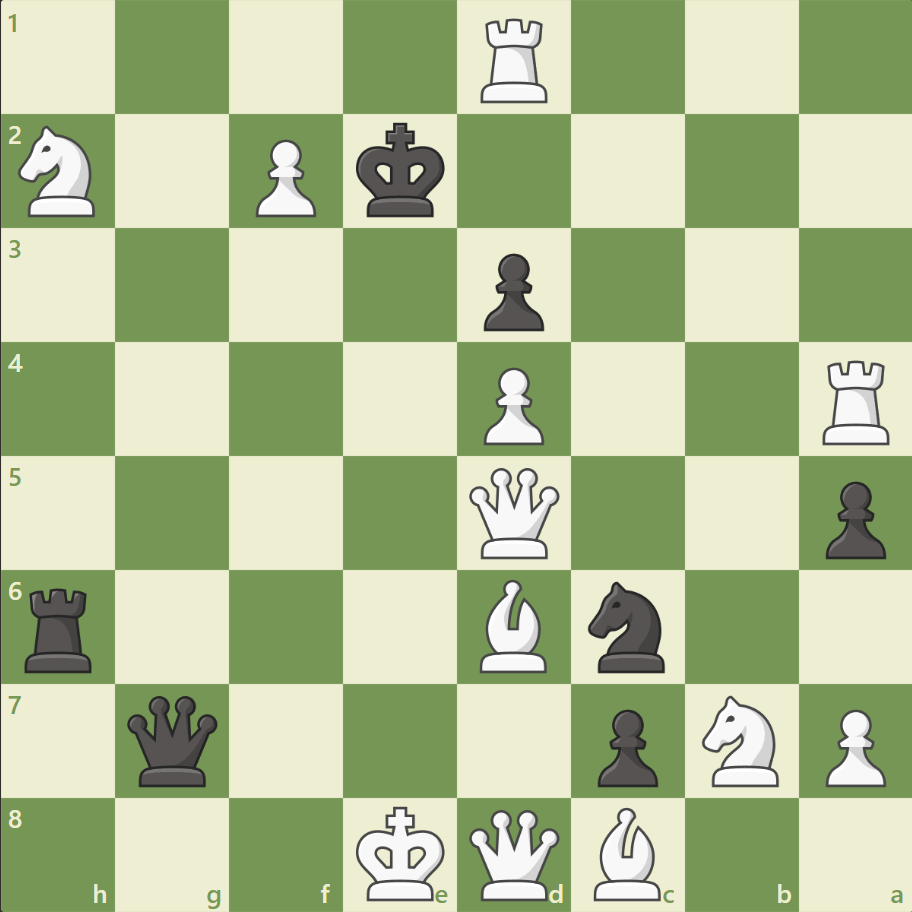B: (585, 801, 669, 904), (471, 574, 555, 676)
K: (351, 798, 451, 906)
N: (692, 688, 789, 791), (11, 121, 108, 223)
P: (474, 359, 549, 450), (247, 132, 322, 223), (815, 700, 889, 791)
Q: (464, 804, 563, 903), (464, 463, 563, 562)
R: (814, 352, 897, 449), (473, 12, 556, 109)
k: (351, 117, 451, 225)
n: (579, 575, 676, 677)
p: (474, 246, 549, 337), (588, 700, 662, 791), (815, 473, 889, 564)
q: (124, 690, 223, 789)
r: (19, 579, 102, 676)
